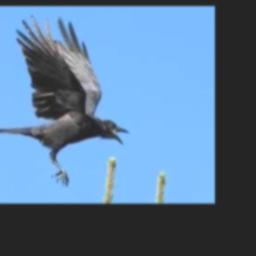Crow: (0, 17, 130, 187)
